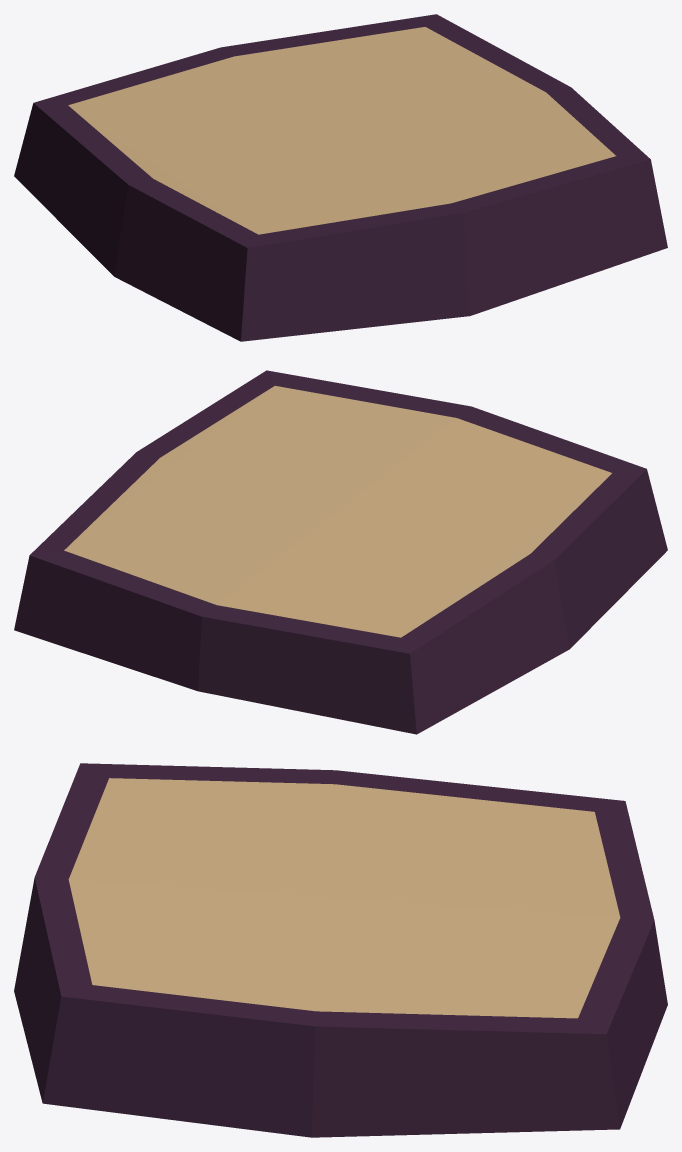
Rendered from eggplantCircle.fbx.
3 views of the same model, one above another, from view 1: azimuth 30°, elevation 25°; view 2: azimuth 150°, elevation 25°; view 3: azimuth 270°, elevation 25° (orthographic). The views are drawn at different scales.
Visible parts, largest first — view 1: eggplantCircle; view 2: eggplantCircle; view 3: eggplantCircle.
Part boxes in pixels (x1=…): eggplantCircle: x1=14, y1=14, x2=667, y2=341; eggplantCircle: x1=14, y1=370, x2=667, y2=734; eggplantCircle: x1=14, y1=763, x2=667, y2=1137.
Size of the model in its own units: 8.97 by 1.94 by 9.24.
1 material, 1 textured.
